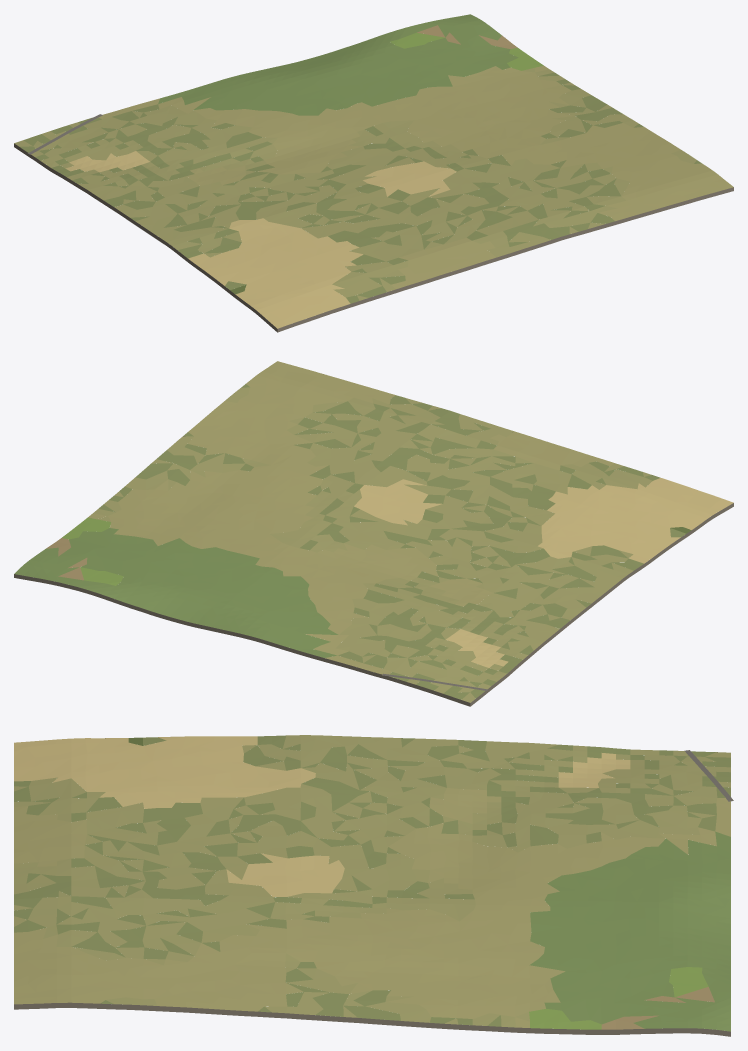
Rendered from parca_-1_-2-uzak.glb.
The picture shows the model from 3 angles, top to bottom: view 1: azimuth 30°, elevation 25°; view 2: azimuth 150°, elevation 25°; view 3: azimuth 270°, elevation 25°; orthographic projection. The views are drawn at different scales.
Visible parts, largest first — view 1: parca_-1_-2_arazi_uzak; view 2: parca_-1_-2_arazi_uzak; view 3: parca_-1_-2_arazi_uzak.
Boxes of the visible parts, <box> form: parca_-1_-2_arazi_uzak: <box>14,14,733,332</box>; parca_-1_-2_arazi_uzak: <box>14,361,733,706</box>; parca_-1_-2_arazi_uzak: <box>14,735,730,1036</box>.
Bounding box in the file's own units: 1003 × 89.3 × 1004.
